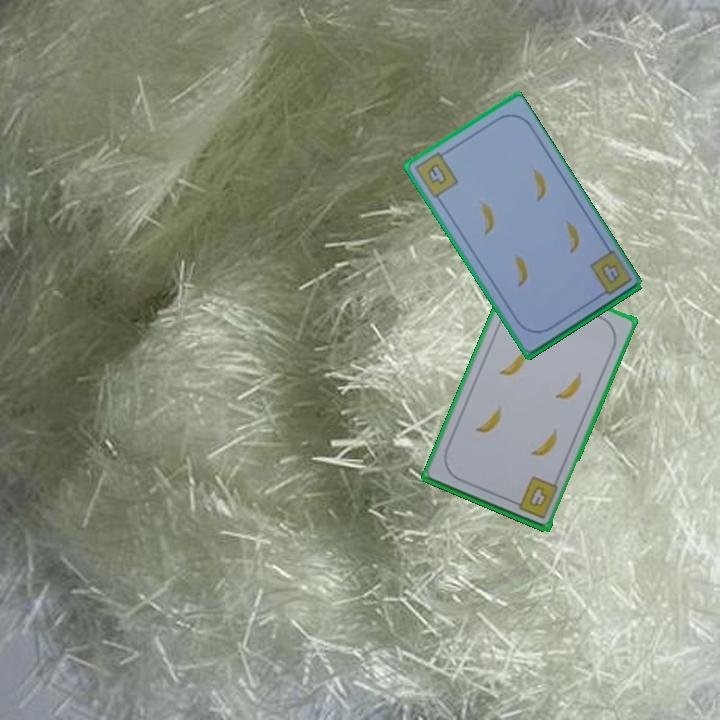4b: (411, 147, 461, 201), (508, 473, 561, 522), (597, 259, 623, 287)
